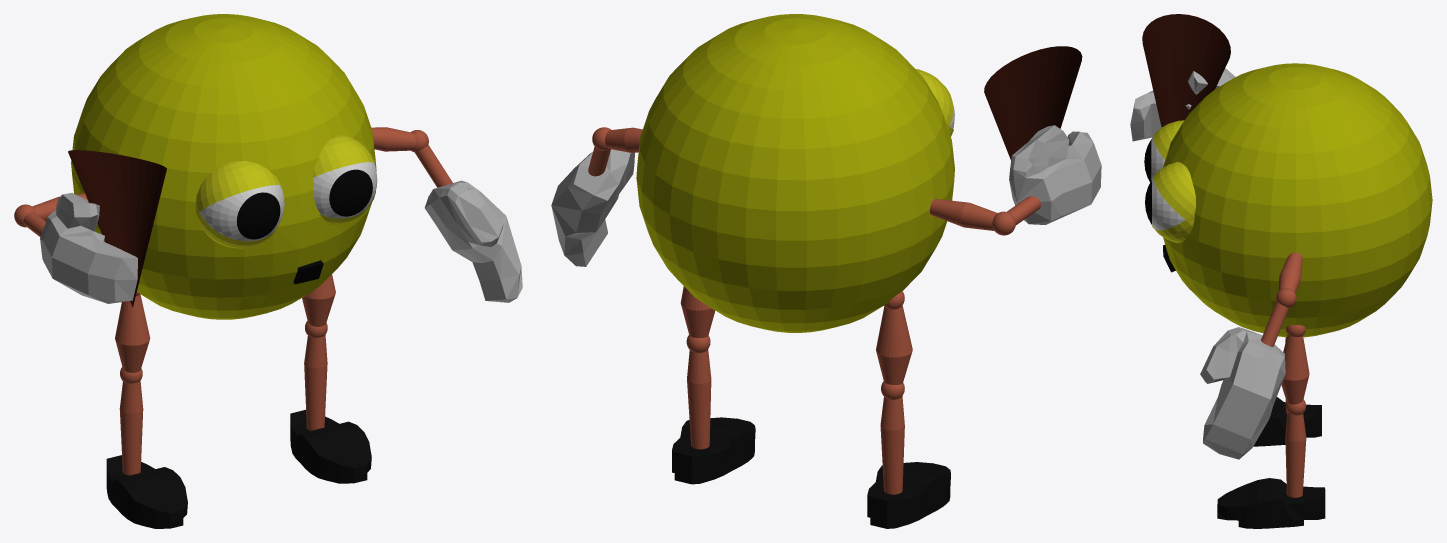
The model's file is Rusko_v5_try2.obj.
3 views of the same model, side by side, from view 1: azimuth 30°, elevation 25°; view 2: azimuth 150°, elevation 25°; view 3: azimuth 270°, elevation 25° (orthographic). The views are drawn at different scales.
Parts seen in each view (by area): view 1: hand_left_Cube_Material.002, hand_left_Cube_Material, hand_left_Cube_Material.003, hand_left_Cube_Material.006, hand_left_Cube_Material.001, hand_left_Cube_Material.012, hand_left_Cube_Material.010, hand_left_Cube_Material.011, hand_left_Cube_Material.005, hand_left_Cube_Material.013; view 2: hand_left_Cube_Material.002, hand_left_Cube_Material, hand_left_Cube_Material.003, hand_left_Cube_Material.006, hand_left_Cube_Material.001, hand_left_Cube_Material.005, hand_left_Cube_Material.012; view 3: hand_left_Cube_Material.002, hand_left_Cube_Material, hand_left_Cube_Material.001, hand_left_Cube_Material.006, hand_left_Cube_Material.003, hand_left_Cube_Material.012, hand_left_Cube_Material.010, hand_left_Cube_Material.005, hand_left_Cube_Material.013, hand_left_Cube_Material.011.
Boxes of the visible parts, <box> form: hand_left_Cube_Material.002: <box>71,14,376,319</box>; hand_left_Cube_Material: <box>40,180,522,303</box>; hand_left_Cube_Material.003: <box>23,127,452,475</box>; hand_left_Cube_Material.006: <box>106,409,371,528</box>; hand_left_Cube_Material.001: <box>68,150,166,307</box>; hand_left_Cube_Material.012: <box>195,135,375,214</box>; hand_left_Cube_Material.010: <box>199,162,377,241</box>; hand_left_Cube_Material.011: <box>236,169,372,239</box>; hand_left_Cube_Material.005: <box>14,130,428,383</box>; hand_left_Cube_Material.013: <box>195,191,375,248</box>; hand_left_Cube_Material.002: <box>636,14,954,332</box>; hand_left_Cube_Material: <box>551,125,1101,266</box>; hand_left_Cube_Material.003: <box>588,127,1040,494</box>; hand_left_Cube_Material.006: <box>672,417,950,528</box>; hand_left_Cube_Material.001: <box>984,46,1082,160</box>; hand_left_Cube_Material.005: <box>592,127,1015,399</box>; hand_left_Cube_Material.012: <box>916,69,953,128</box>; hand_left_Cube_Material.002: <box>1163,63,1432,337</box>; hand_left_Cube_Material: <box>1130,68,1285,459</box>; hand_left_Cube_Material.001: <box>1142,14,1230,126</box>; hand_left_Cube_Material.006: <box>1217,397,1325,528</box>; hand_left_Cube_Material.003: <box>1261,252,1309,497</box>; hand_left_Cube_Material.012: <box>1153,120,1195,224</box>; hand_left_Cube_Material.010: <box>1151,136,1185,230</box>; hand_left_Cube_Material.005: <box>1276,288,1306,415</box>; hand_left_Cube_Material.013: <box>1152,214,1194,243</box>; hand_left_Cube_Material.011: <box>1144,139,1151,224</box>.
Bounding box in the file's own units: 7.3 × 6.44 × 4.4.
